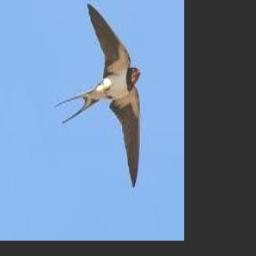Swallow: (55, 3, 143, 188)
